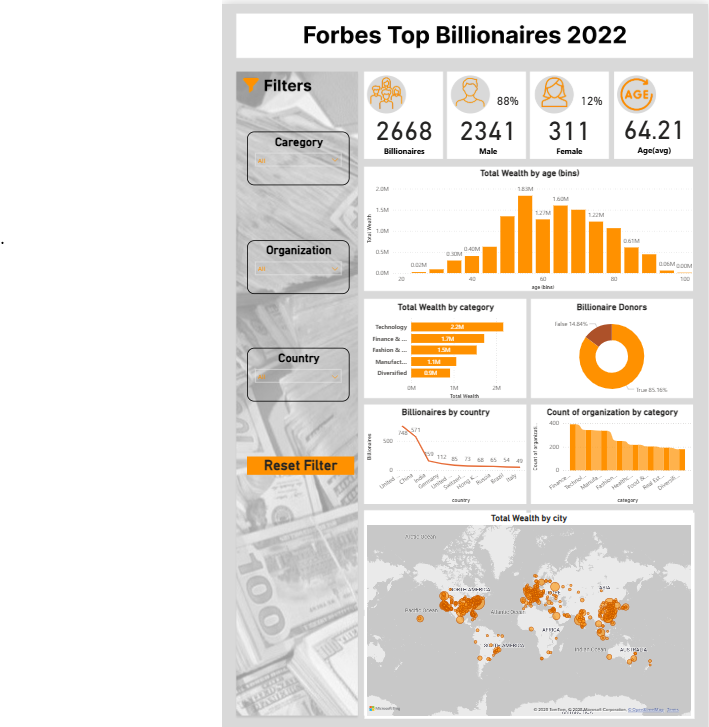

Layout of this report page (visuals, bound fields, positions):
{"tool":"powerbi","page":{"name":"Page 1","canvas":[1000,1500],"ordinal":0},"visuals":[{"type":"card","fields":{"Values":["measure.Billionaires"]},"box":[292.9,188.6,162.9,147.1],"z":0},{"type":"card","fields":{"Values":["measure.male"]},"box":[462.9,188.8,163.5,147.6],"z":1000},{"type":"card","fields":{"Values":["measure.female"]},"box":[631.9,188.8,163.8,148.1],"z":2000},{"type":"card","fields":{"Values":["measure.age(avg)"]},"box":[806.2,187.5,163.8,148.8],"z":3000},{"type":"clusteredColumnChart","fields":{"Y":["measure.Total Wearth"],"Category":["forbes_2022_billionaires.age (bins)"]},"box":[292.7,336.7,677.3,256],"z":4000},{"type":"card","fields":{"Values":["measure.Male%"]},"box":[541,166,91,63],"z":5000},{"type":"card","fields":{"Values":["measure.Female%"]},"box":[714,166,91,63],"z":6000},{"type":"clusteredBarChart","fields":{"Category":["forbes_2022_billionaires.category"],"Y":["measure.Total Wearth"]},"box":[293,609,334,205],"z":7000},{"type":"donutChart","title":"Billionaire Donors","fields":{"Category":["forbes_2022_billionaires.Donner"],"Y":["CountNonNull(forbes_2022_billionaires.Donner)"]},"box":[632,609,338,205],"z":8000},{"type":"lineChart","fields":{"Category":["forbes_2022_billionaires.country"],"Y":["measure.Billionaires"]},"box":[292.7,826.4,333.6,203.6],"z":9000},{"type":"map","fields":{"Category":["forbes_2022_billionaires.city","forbes_2022_billionaires.country"],"Size":["measure.Total Wearth"]},"box":[293,1043,675,421],"z":10000},{"type":"ribbonChart","fields":{"Category":["forbes_2022_billionaires.category"],"Y":["CountNonNull(forbes_2022_billionaires.organization)"]},"box":[632.7,826,335.3,204],"z":11000},{"type":"slicer","title":"Caregory","fields":{"Values":["forbes_2022_billionaires.category"]},"box":[58,262,192,100],"z":12000},{"type":"slicer","title":"Country","fields":{"Values":["forbes_2022_billionaires.country"]},"box":[58.6,558.6,191.4,100],"z":13000},{"type":"slicer","title":"Organization","fields":{"Values":["forbes_2022_billionaires.organization"]},"box":[58,414,192,100],"z":14000},{"type":"actionButton","title":"Reset Filter","box":[45,722.5,220,55],"z":15000}]}

Visuals, with their boxes on the page's 1000x1500 design canvas (x1, y1, x2, y2). These are canvas units, not pixel positions in the 709x727 screenshot, which may show the page scaled, cropped or inside an application window:
card - measure.Billionaires: (293,189,456,336)
card - measure.male: (463,189,626,336)
card - measure.female: (632,189,796,337)
card - measure.age(avg): (806,188,970,336)
clusteredColumnChart - measure.Total Wearth x forbes_2022_billionaires.age (bins): (293,337,970,593)
card - measure.Male%: (541,166,632,229)
card - measure.Female%: (714,166,805,229)
clusteredBarChart - forbes_2022_billionaires.category x measure.Total Wearth: (293,609,627,814)
"Billionaire Donors" donutChart: (632,609,970,814)
lineChart - forbes_2022_billionaires.country x measure.Billionaires: (293,826,626,1030)
map - forbes_2022_billionaires.city x forbes_2022_billionaires.country: (293,1043,968,1464)
ribbonChart - forbes_2022_billionaires.category x CountNonNull(forbes_2022_billionaires.organization): (633,826,968,1030)
"Caregory" slicer: (58,262,250,362)
"Country" slicer: (59,559,250,659)
"Organization" slicer: (58,414,250,514)
"Reset Filter" actionButton: (45,722,265,778)
